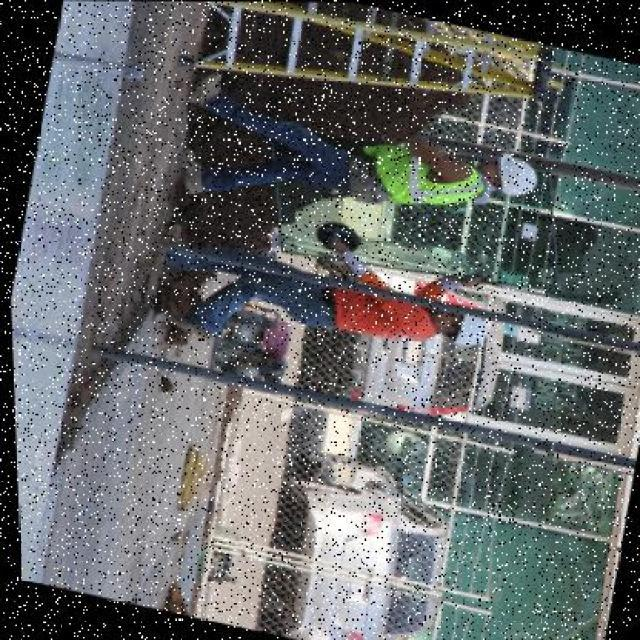helmet: (483, 151, 537, 205), (437, 306, 483, 351)
vest: (345, 132, 486, 220)
